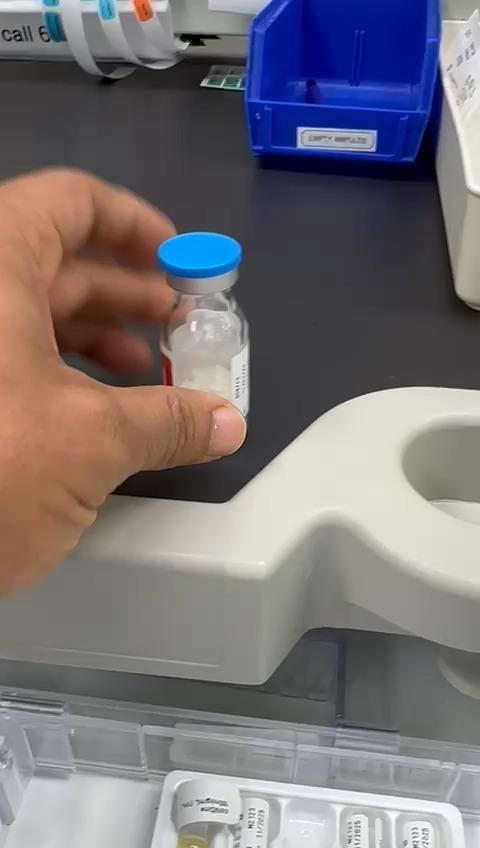cefazolin: (157, 232, 250, 415)
